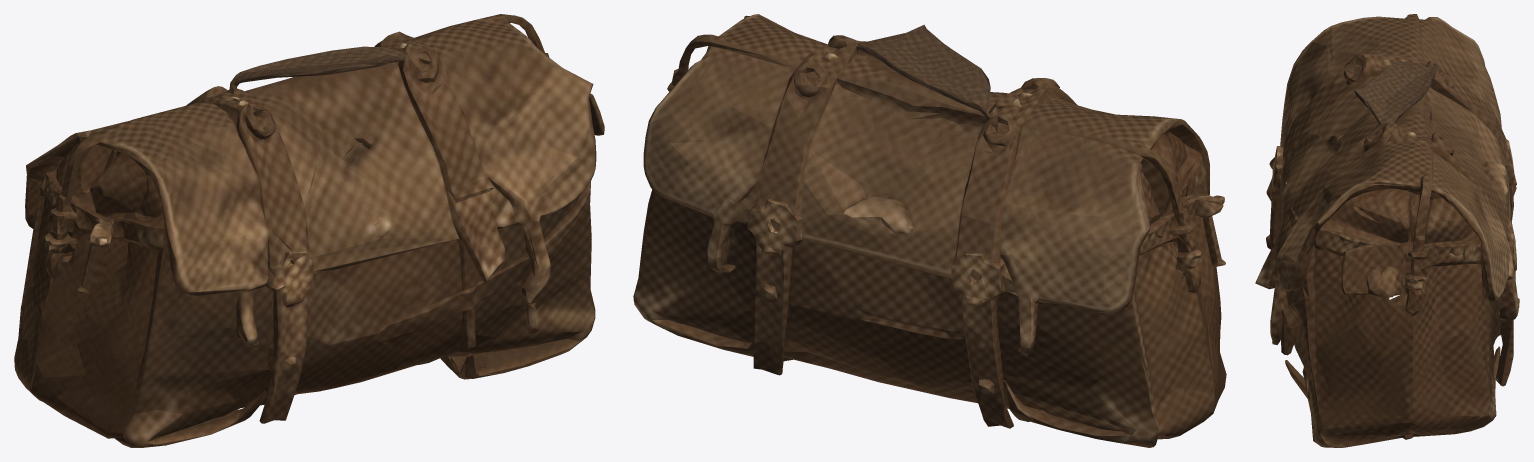
The model's file is leather-holdall.glb.
The picture shows the model from 3 angles, left to right: view 1: azimuth 30°, elevation 25°; view 2: azimuth 150°, elevation 25°; view 3: azimuth 270°, elevation 25°; orthographic projection. The views are drawn at different scales.
Visible parts, largest first — view 1: Mesh_0; view 2: Mesh_0; view 3: Mesh_0.
Boxes of the visible parts, x1,y1,x2,y2 form: Mesh_0: [14, 14, 604, 447]; Mesh_0: [633, 14, 1226, 447]; Mesh_0: [1255, 14, 1519, 447].
Bounding box in the file's own units: 0.53 × 0.3 × 0.25.
1 material, 1 textured.
